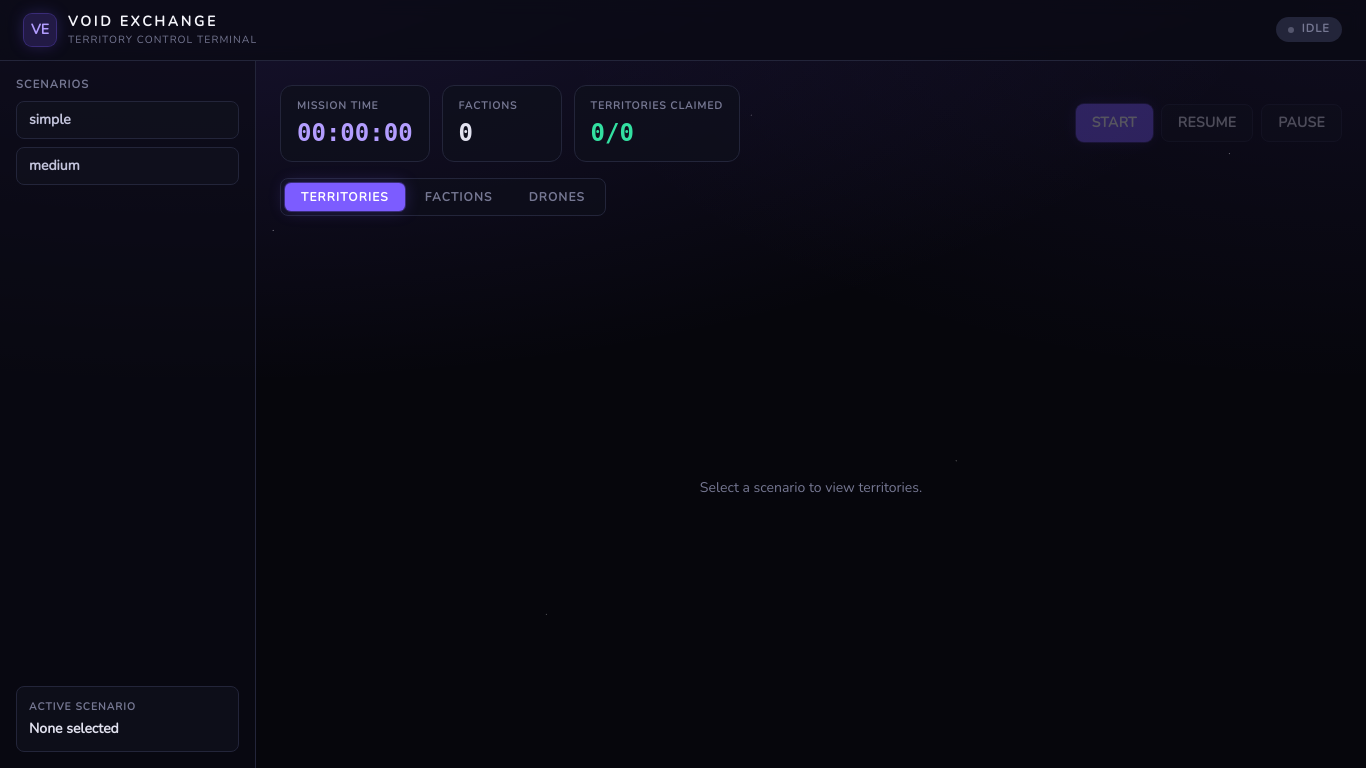
Scenario: App › pausing a running scenario flips status back to paused
The width and height of the screenshot is (1366, 768).
What coordinates should you click on to do the following:
click the button "simple"
I would click on:
 (128, 120)
Its box is left=16, top=101, right=239, bottom=139.
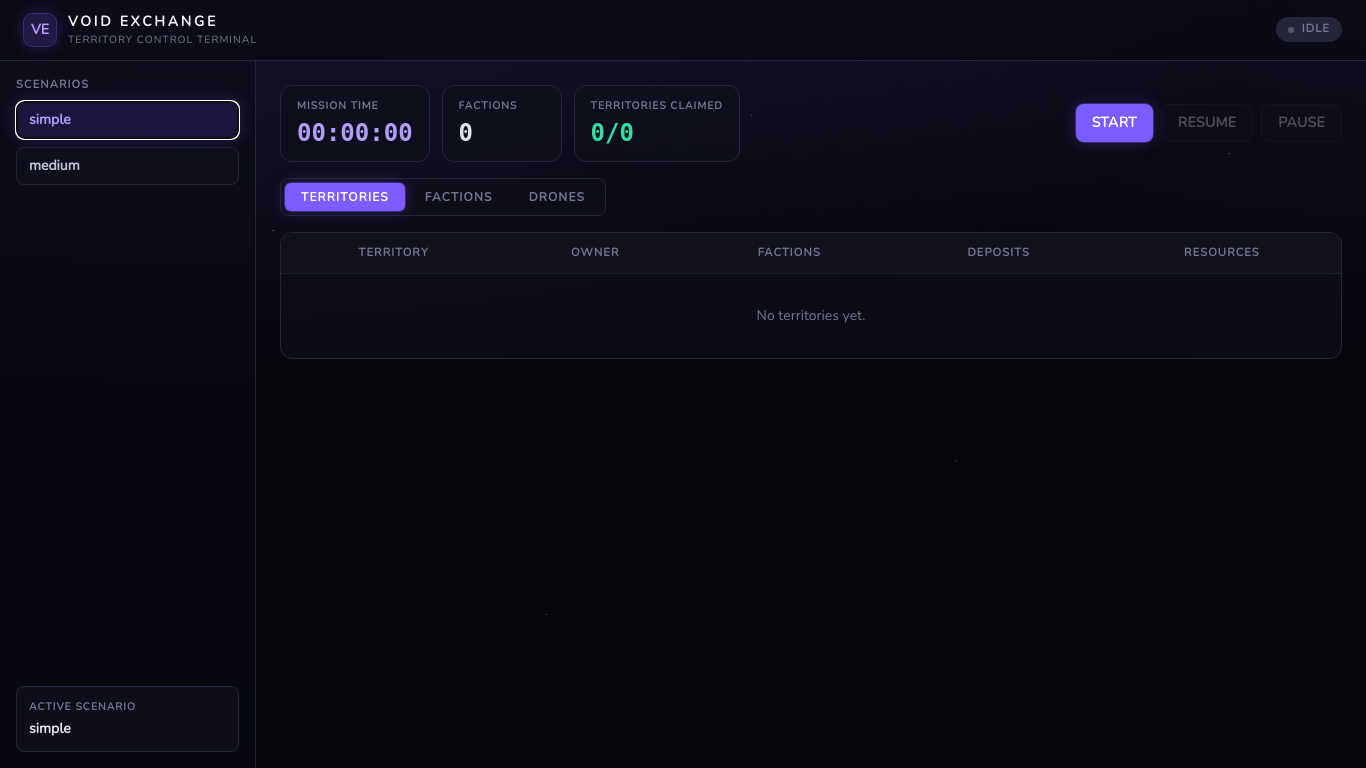
What coordinates should you click on to do the following:
click the button "Start"
I would click on:
 (1114, 123)
Its box is left=1076, top=104, right=1153, bottom=142.
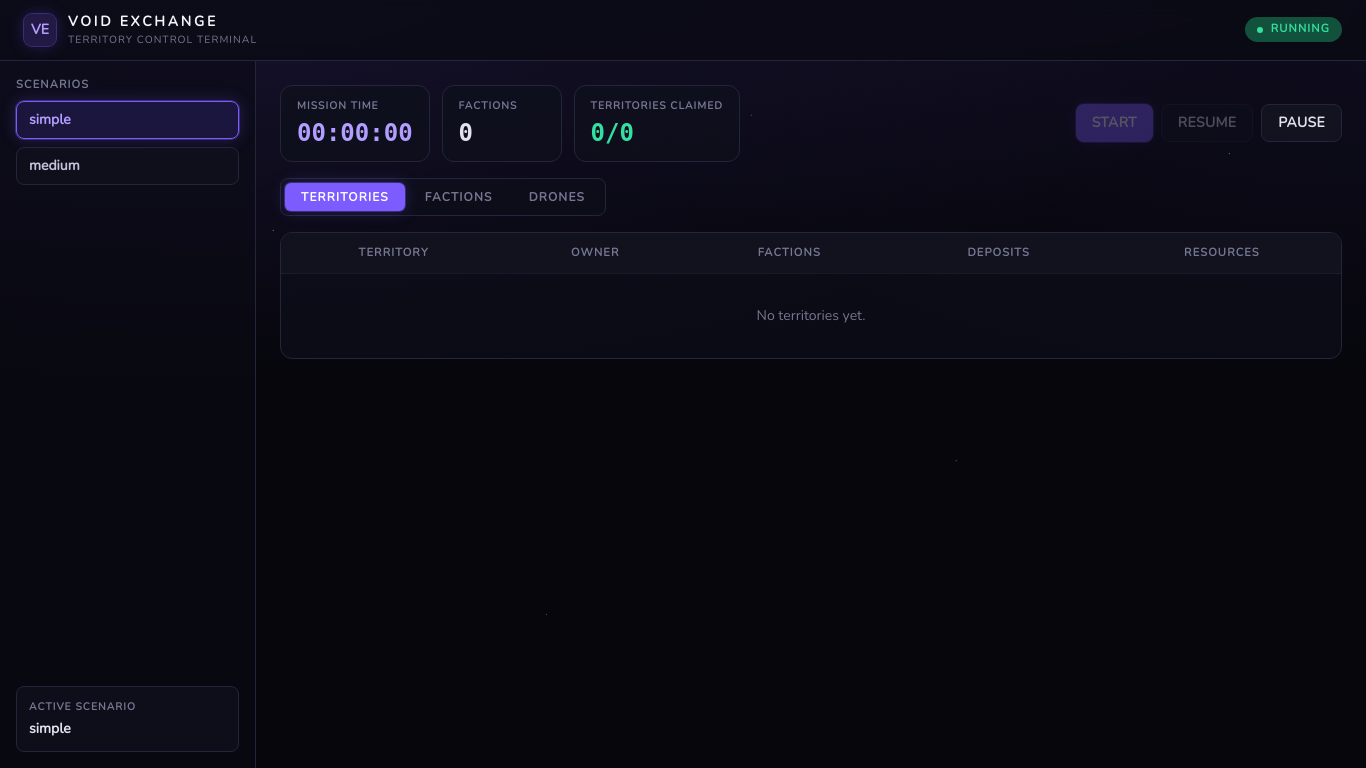
Now the text "running" is shown, box left=1245, top=17, right=1342, bottom=42
What coordinates should you click on to do the following:
click the button "Pause"
I would click on:
 (1302, 123)
Its box is left=1261, top=104, right=1342, bottom=142.
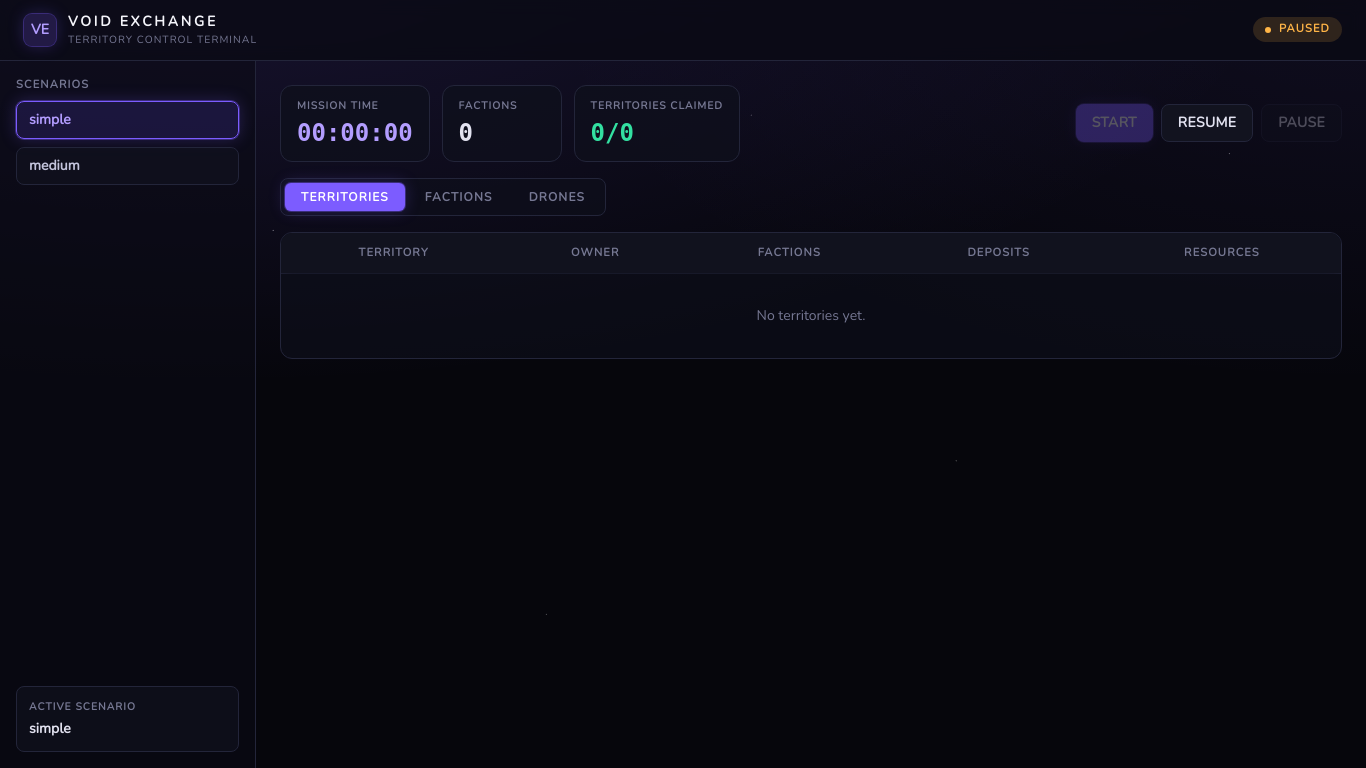
Now the text "paused" is shown, box left=1253, top=17, right=1342, bottom=42
